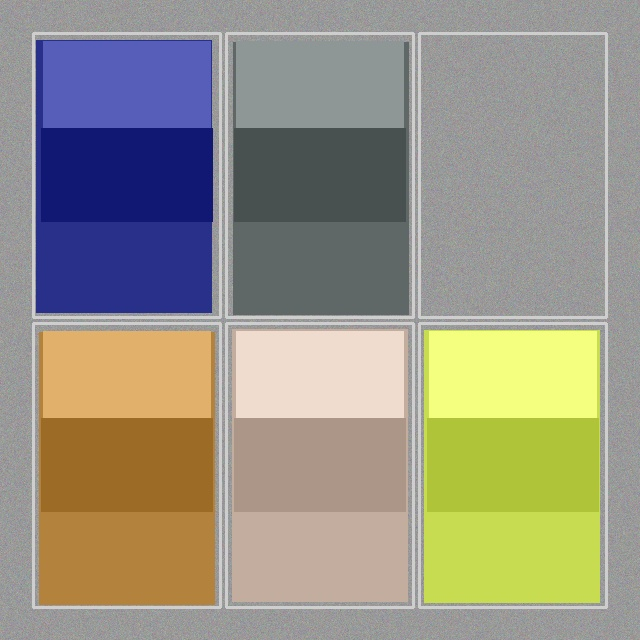space-empty: (421, 35, 604, 315)
space-occupied: (35, 35, 218, 315), (228, 35, 411, 315), (35, 325, 218, 605), (228, 325, 411, 605), (421, 325, 604, 605)
